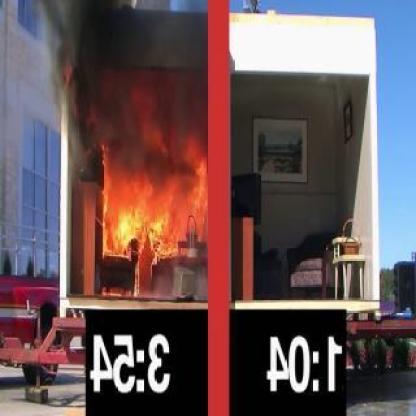Fire: (108, 174, 207, 272)
Smoke: (51, 3, 211, 167)
